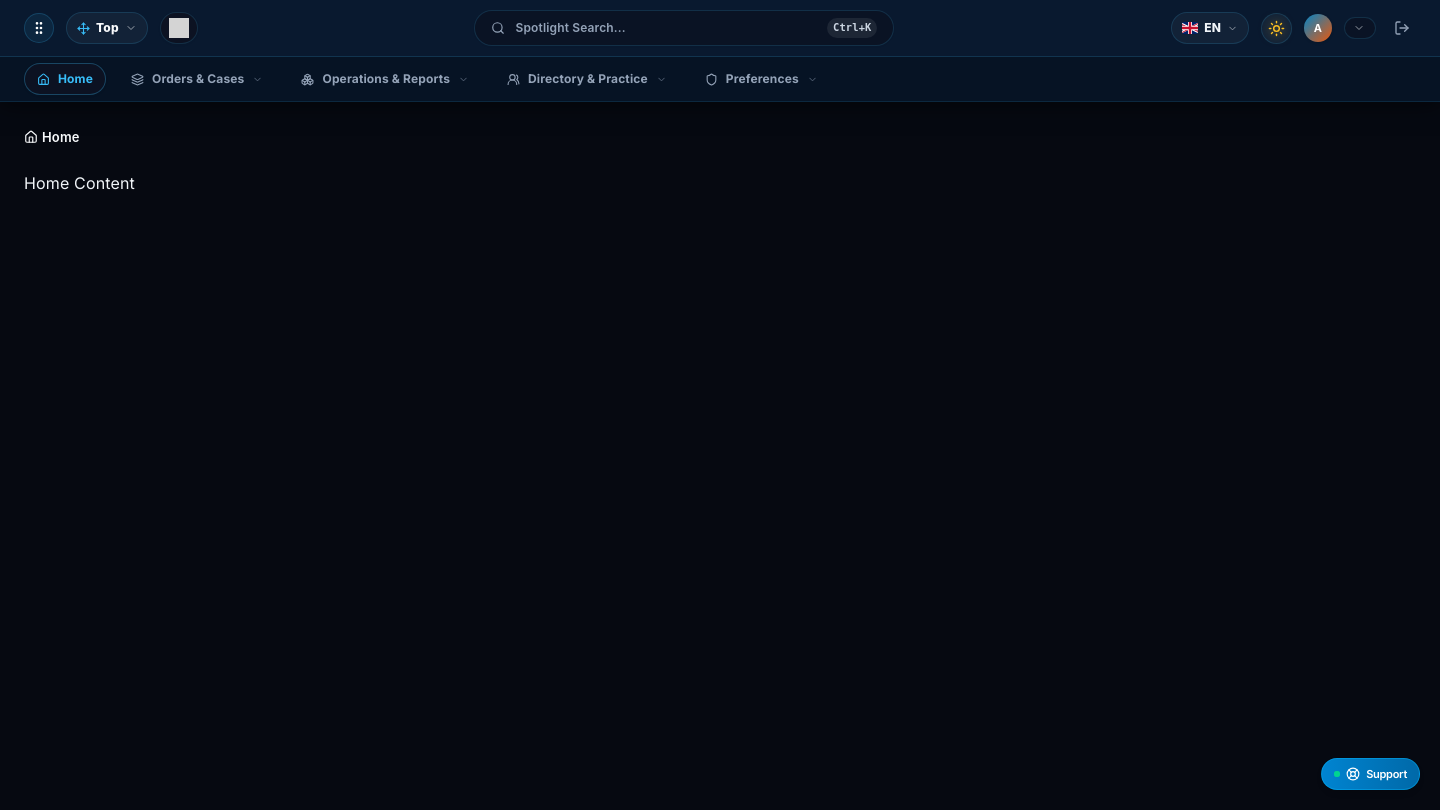
Test: Tier 2 Navbar Dropdown Visibility & Overflow Fix (UIUX-REQ-012) › Operations & Reports Dropdown Visibility & Click Behavior › opens and visibly renders Operations & Reports dropdown menu without clipping
What coordinates should you click on to do the following:
click the button "Operations & Reports"
I would click on:
 (385, 79)
Its box is [288,63,482,95].
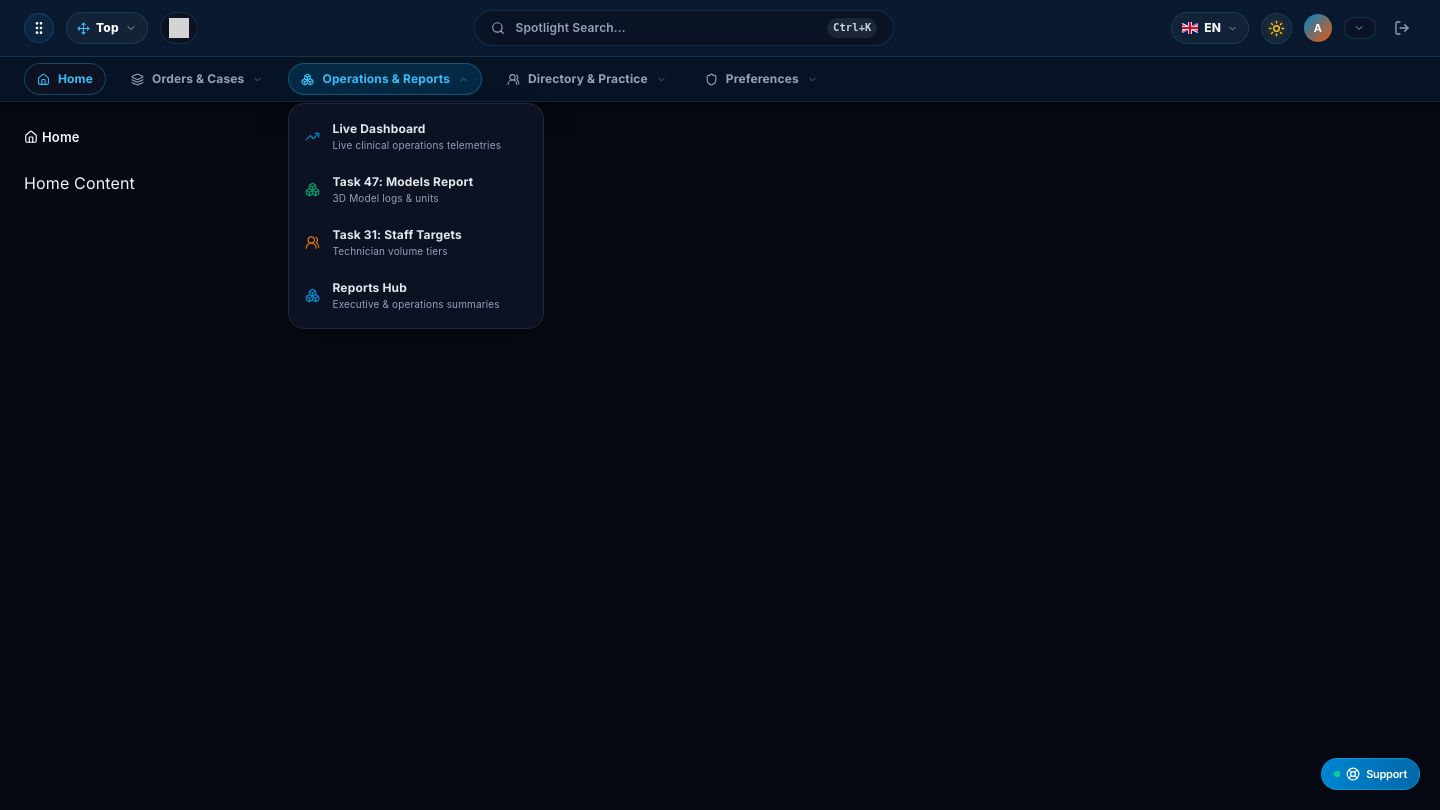
Check: the button "Operations & Reports" is expanded, box [288,63,482,95]
Check: the element with test id "ops-dropdown-menu" is shown, box [288,103,544,329]
Check: the text "Live Dashboard" is shown, box [332,121,426,136]
